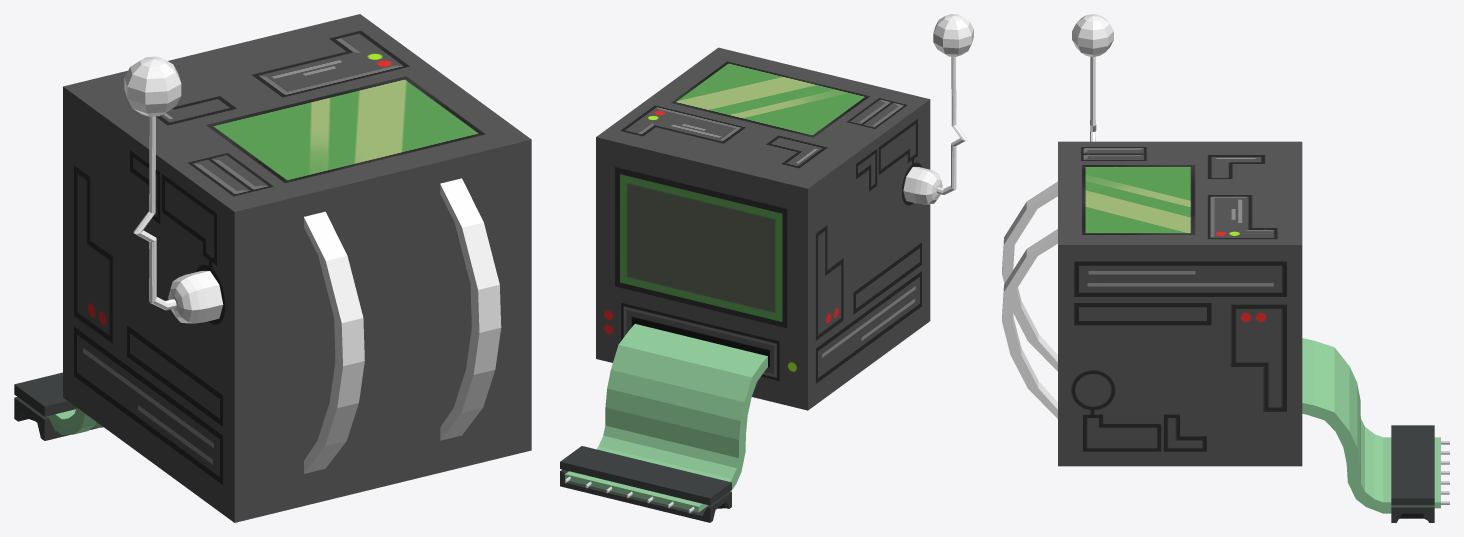
The model's file is Collectible1.glb.
3 views of the same model, side by side, from view 1: azimuth 30°, elevation 25°; view 2: azimuth 150°, elevation 25°; view 3: azimuth 270°, elevation 25° (orthographic). The views are drawn at different scales.
Visible parts, largest first — view 1: Cube, Cube.002, Cylinder, cable.001; view 2: Cube, cable.001, Cylinder; view 3: Cube, cable.001, Cube.002, Cylinder.
Boxes of the visible parts, <box> form: Cube: <box>63,14,531,522</box>; Cube.002: <box>304,178,501,473</box>; Cylinder: <box>124,56,223,323</box>; cable.001: <box>14,372,103,440</box>; Cube: <box>596,47,930,410</box>; cable.001: <box>560,324,767,522</box>; Cylinder: <box>903,14,973,204</box>; Cube: <box>1058,141,1302,466</box>; cable.001: <box>1302,338,1449,522</box>; Cube.002: <box>1002,181,1057,418</box>; Cylinder: <box>1072,14,1113,141</box>.
Size of the model in its own units: 2.56 by 3.6 by 3.67.
8 materials, 1 textured.
